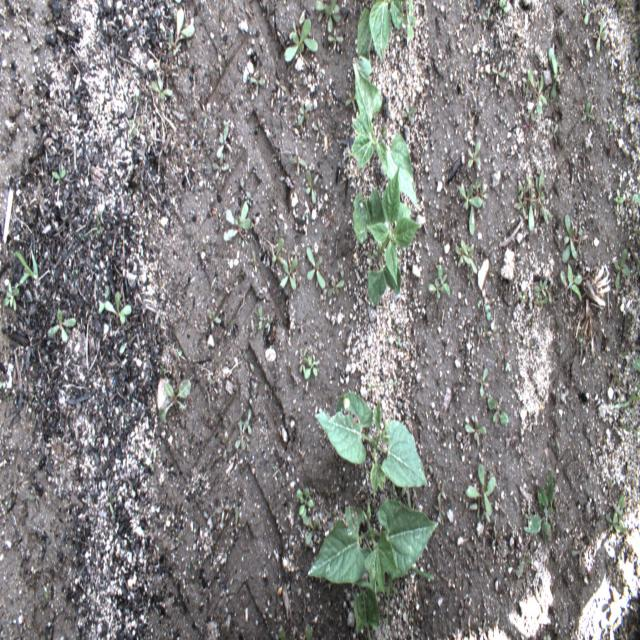crop: (307, 496, 438, 639), (318, 388, 429, 499), (346, 60, 421, 208), (350, 166, 422, 309), (354, 0, 404, 63)
weed: (522, 468, 554, 542), (464, 461, 497, 516), (282, 10, 319, 59), (525, 172, 552, 236), (158, 378, 192, 424), (601, 377, 638, 418), (166, 7, 195, 58), (458, 183, 483, 238), (561, 212, 584, 271), (46, 307, 78, 345), (10, 247, 38, 288), (224, 203, 252, 240), (305, 245, 327, 291), (278, 247, 300, 292), (559, 261, 583, 300), (314, 0, 343, 31), (528, 68, 547, 115), (486, 392, 509, 425), (547, 47, 561, 101), (514, 538, 532, 580), (614, 246, 630, 293), (81, 209, 102, 240), (115, 289, 132, 326), (300, 516, 320, 547), (295, 487, 315, 518), (150, 76, 173, 102), (465, 498, 491, 521), (3, 279, 20, 314), (437, 262, 452, 300), (270, 236, 285, 273), (464, 419, 487, 443), (405, 0, 417, 41), (305, 166, 317, 206), (464, 241, 478, 275), (466, 139, 481, 170), (426, 271, 440, 304), (289, 155, 309, 178), (99, 287, 115, 315), (326, 276, 345, 299), (453, 236, 468, 265), (216, 123, 228, 159), (211, 152, 225, 182), (432, 491, 446, 521), (386, 584, 398, 619), (296, 103, 312, 129), (595, 20, 607, 54), (238, 408, 252, 437), (305, 354, 319, 383), (602, 610, 616, 639), (491, 59, 506, 85), (214, 499, 230, 523), (580, 99, 596, 123), (605, 512, 622, 534), (128, 117, 144, 140), (207, 307, 221, 332), (401, 103, 418, 123), (120, 330, 131, 360), (613, 190, 627, 213), (233, 432, 249, 452), (298, 347, 307, 382), (243, 350, 256, 374), (571, 544, 585, 566), (557, 30, 564, 74), (327, 31, 346, 47), (169, 342, 184, 362), (254, 304, 264, 334), (479, 366, 488, 399), (344, 87, 354, 116), (490, 526, 503, 548), (394, 324, 404, 352), (546, 123, 560, 143), (368, 382, 399, 391), (238, 177, 250, 199), (622, 424, 639, 439), (479, 185, 490, 208), (516, 197, 527, 220), (28, 484, 42, 502), (476, 618, 488, 639), (222, 436, 232, 461), (251, 249, 261, 274), (248, 310, 256, 339), (550, 424, 560, 447), (438, 477, 448, 500), (458, 599, 470, 618), (51, 168, 67, 182), (105, 489, 116, 509), (488, 323, 498, 345), (518, 179, 529, 198), (610, 367, 621, 386), (516, 289, 528, 306), (490, 618, 499, 640), (497, 0, 508, 18), (250, 75, 266, 87), (614, 1, 624, 20), (476, 325, 486, 344), (43, 581, 52, 601), (536, 294, 548, 309), (523, 503, 532, 523), (521, 73, 529, 95), (605, 475, 615, 492), (482, 5, 491, 23), (617, 494, 624, 517), (630, 357, 640, 373), (536, 280, 548, 293), (426, 452, 433, 474), (159, 362, 168, 379), (5, 496, 13, 514), (275, 78, 286, 91), (583, 0, 589, 23), (466, 271, 474, 288), (472, 176, 480, 193), (235, 509, 241, 531), (484, 301, 490, 322), (265, 314, 272, 332), (289, 78, 298, 91), (631, 193, 640, 206), (608, 118, 615, 134), (132, 91, 139, 106), (305, 625, 312, 639), (291, 502, 296, 520), (278, 627, 286, 638), (578, 336, 584, 350), (548, 280, 552, 301), (207, 378, 217, 386), (0, 628, 6, 640), (0, 378, 5, 392), (148, 461, 154, 472), (636, 262, 640, 278), (150, 448, 156, 458), (477, 298, 481, 310), (546, 634, 555, 639), (54, 564, 58, 574)
